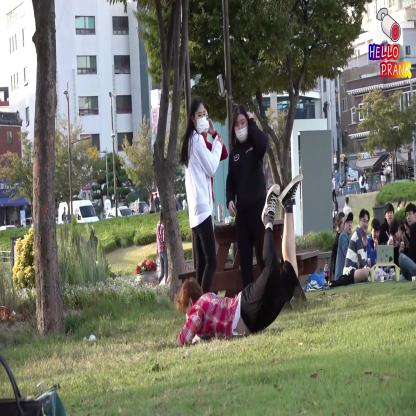Fall_Down: (174, 173, 302, 347)
